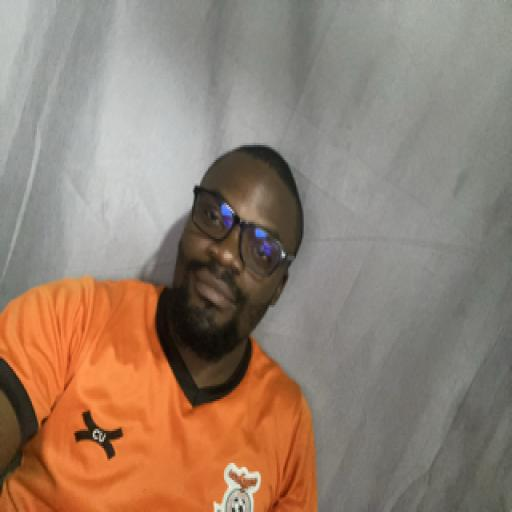JEANLUC: (175, 127, 303, 386)
